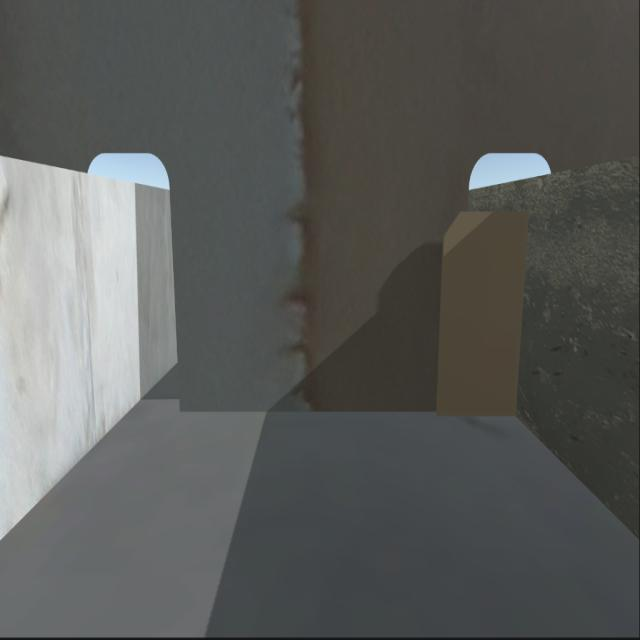fillet_yong_jeop_jang: (176, 408, 518, 422)
longi_yong_jeop_jang: (508, 206, 534, 414)
plate_CP03: (436, 206, 522, 410)
